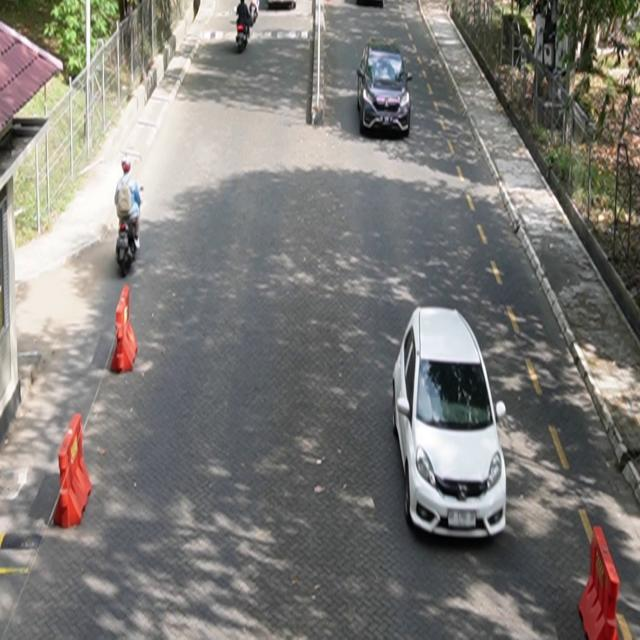car: (392, 306, 508, 540), (357, 38, 414, 139)
